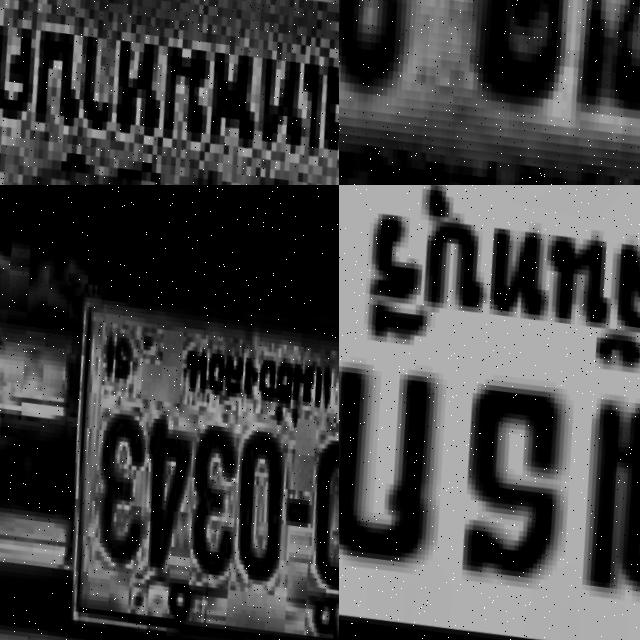license-plate: (339, 185, 640, 640), (22, 277, 339, 640), (0, 0, 339, 185), (339, 0, 640, 185)
